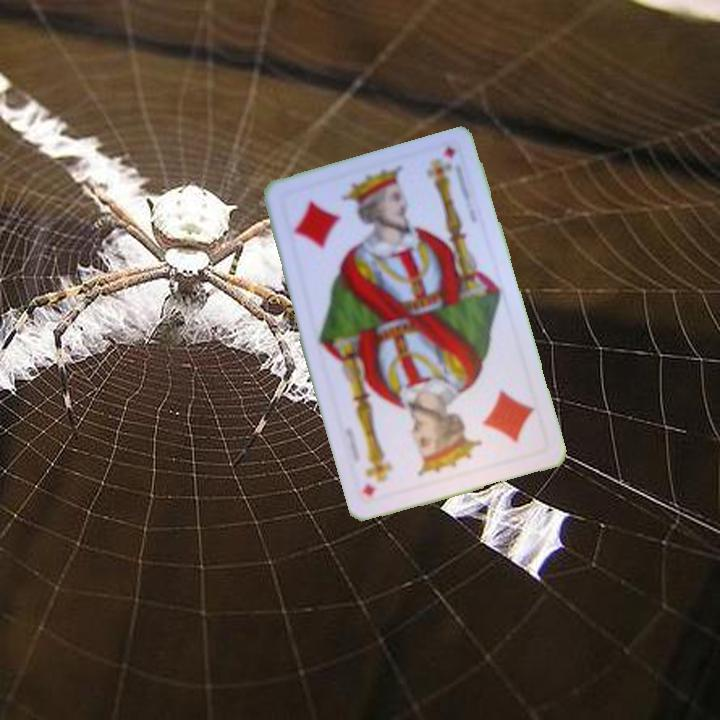d_k.png: (275, 169, 394, 278), (431, 369, 550, 478)
